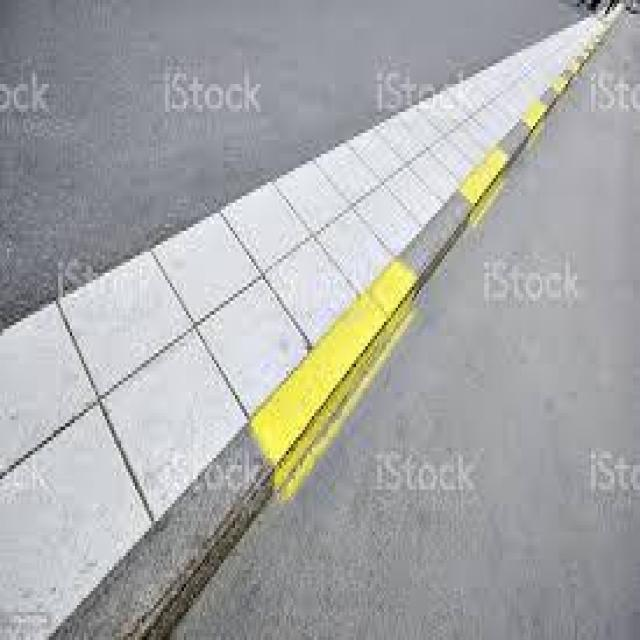curb: (237, 282, 422, 507), (64, 459, 283, 640), (386, 192, 519, 334), (464, 118, 550, 197)
